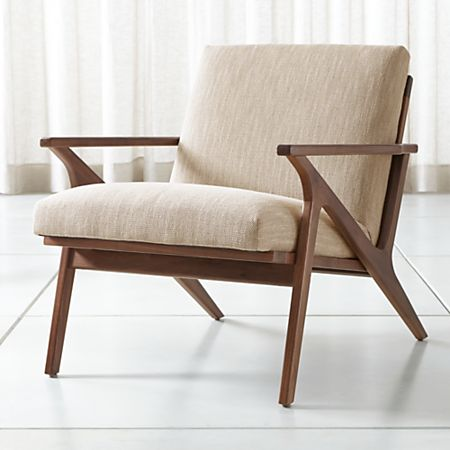chair: (24, 31, 439, 416)
